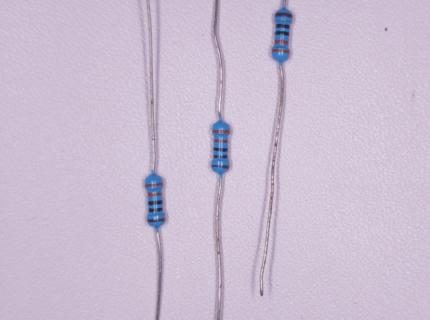Black band: (148, 200, 163, 205), (213, 147, 228, 152), (276, 31, 289, 36), (276, 24, 289, 29), (149, 208, 163, 212), (213, 155, 227, 158)
Brown band: (274, 13, 292, 19), (147, 218, 165, 222), (212, 165, 229, 169)
Orange band: (271, 49, 290, 54), (145, 182, 163, 187), (212, 130, 230, 134), (275, 40, 288, 45), (148, 193, 162, 197), (214, 139, 228, 143)
